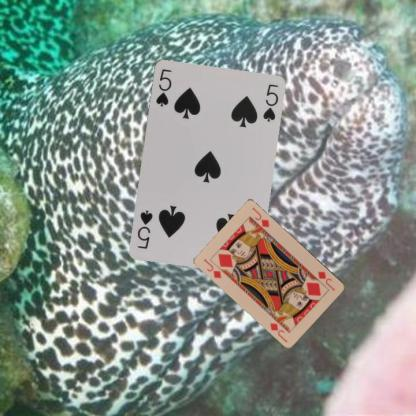5s: (152, 66, 174, 107)
Jd: (201, 256, 223, 280), (316, 269, 336, 292)
